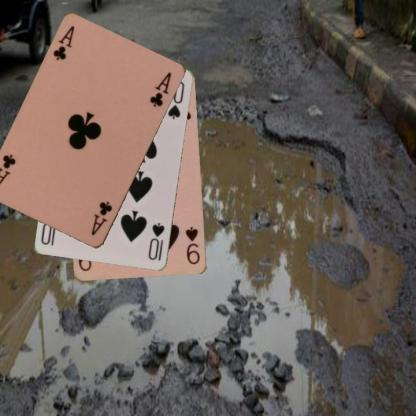10s: (146, 220, 166, 262)
9s: (183, 225, 201, 266)
Ac: (51, 23, 76, 63), (88, 199, 114, 237)
